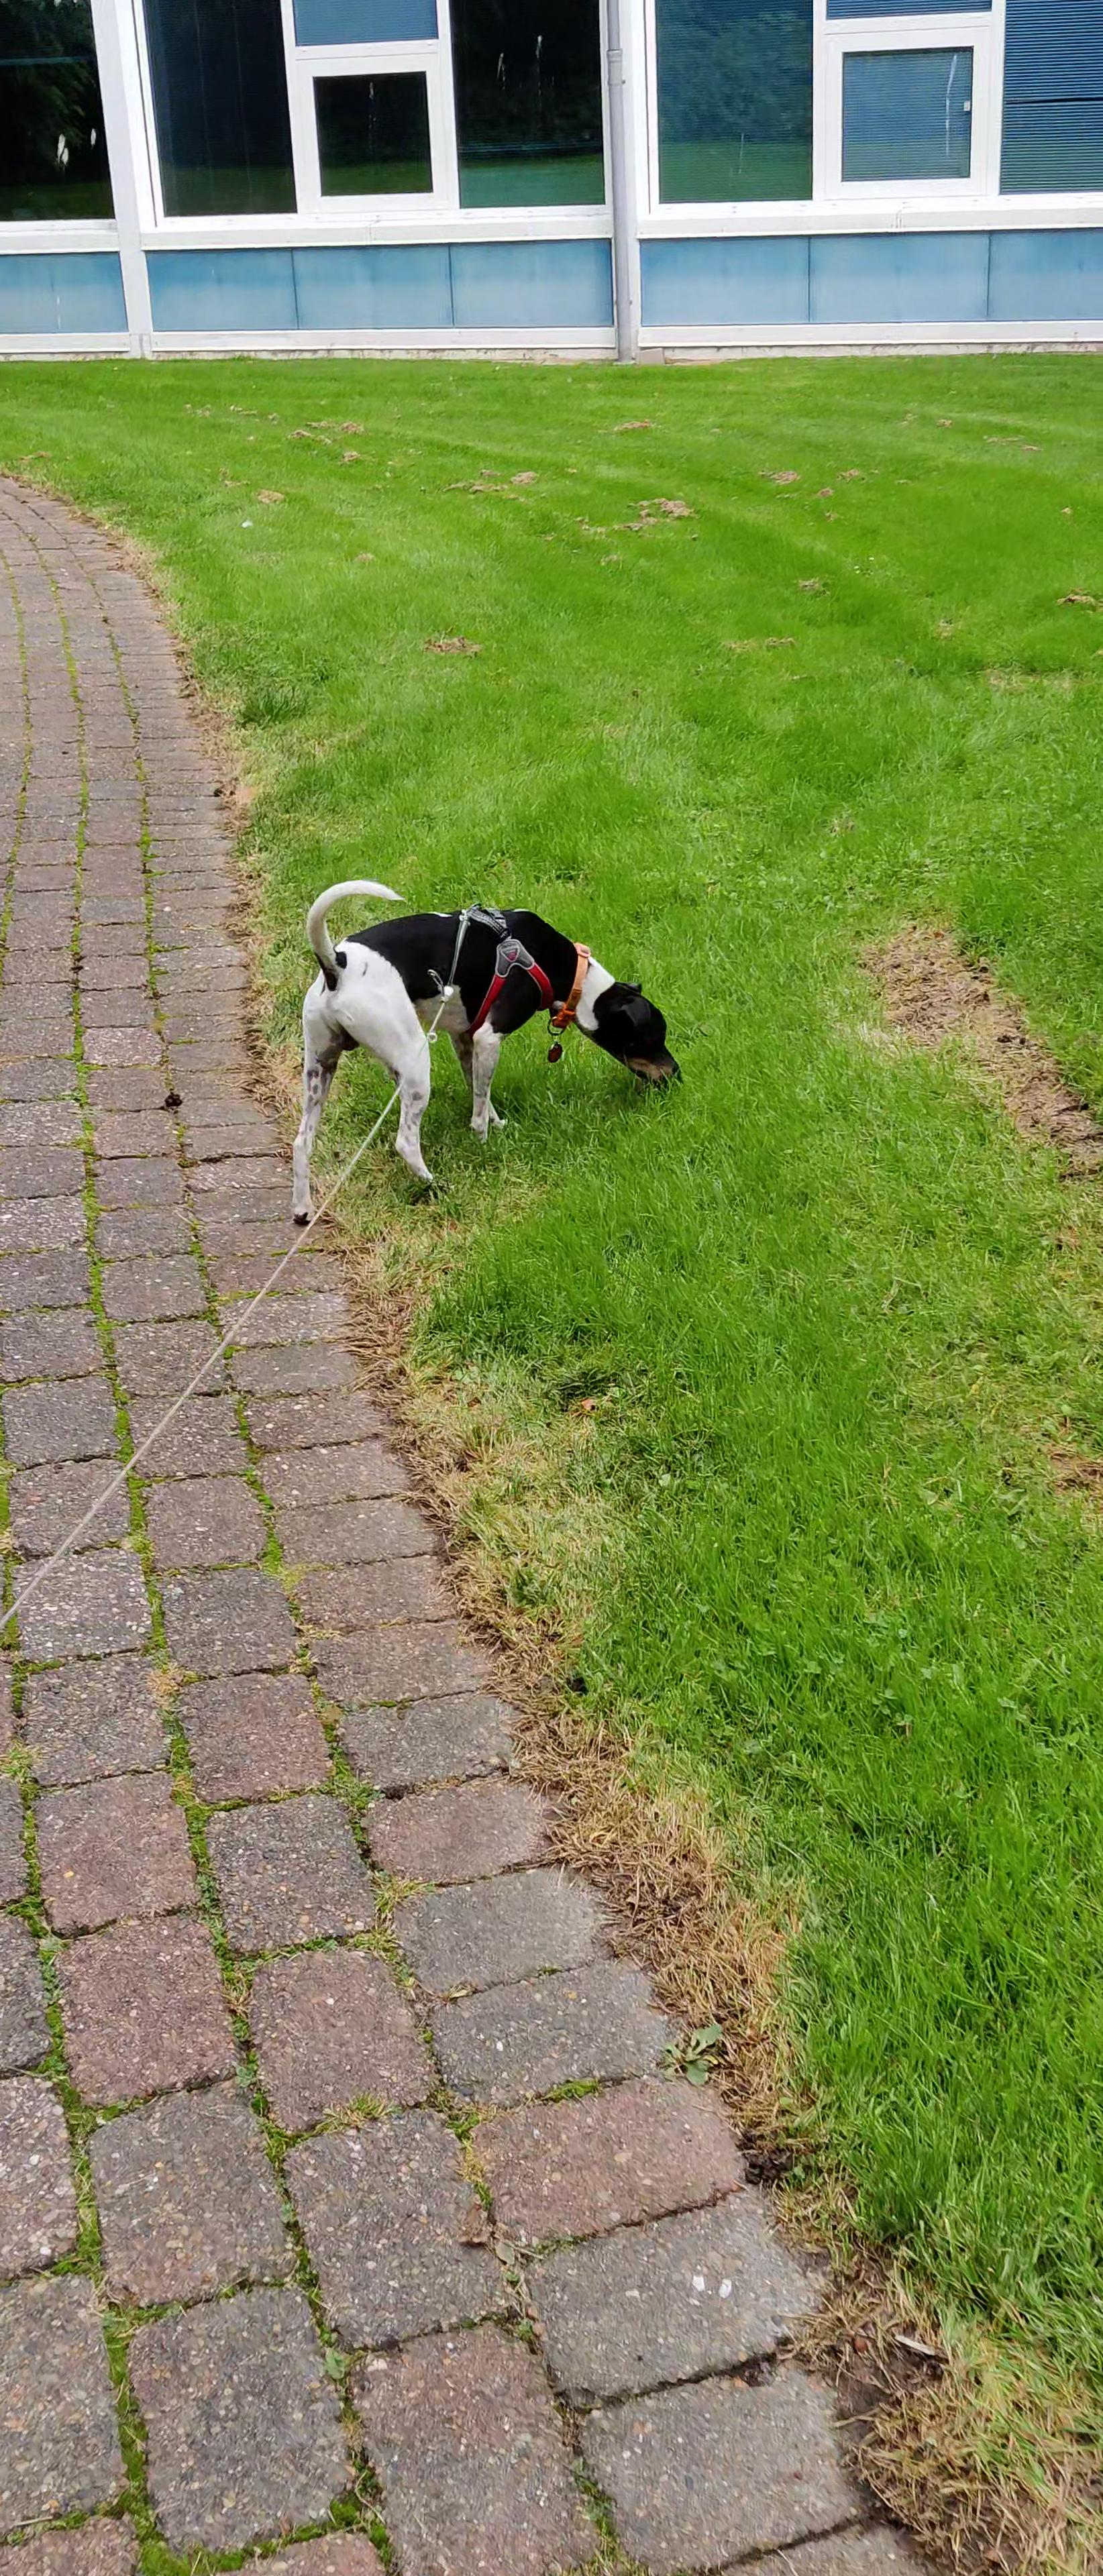Dog: (271, 866, 705, 1239)
